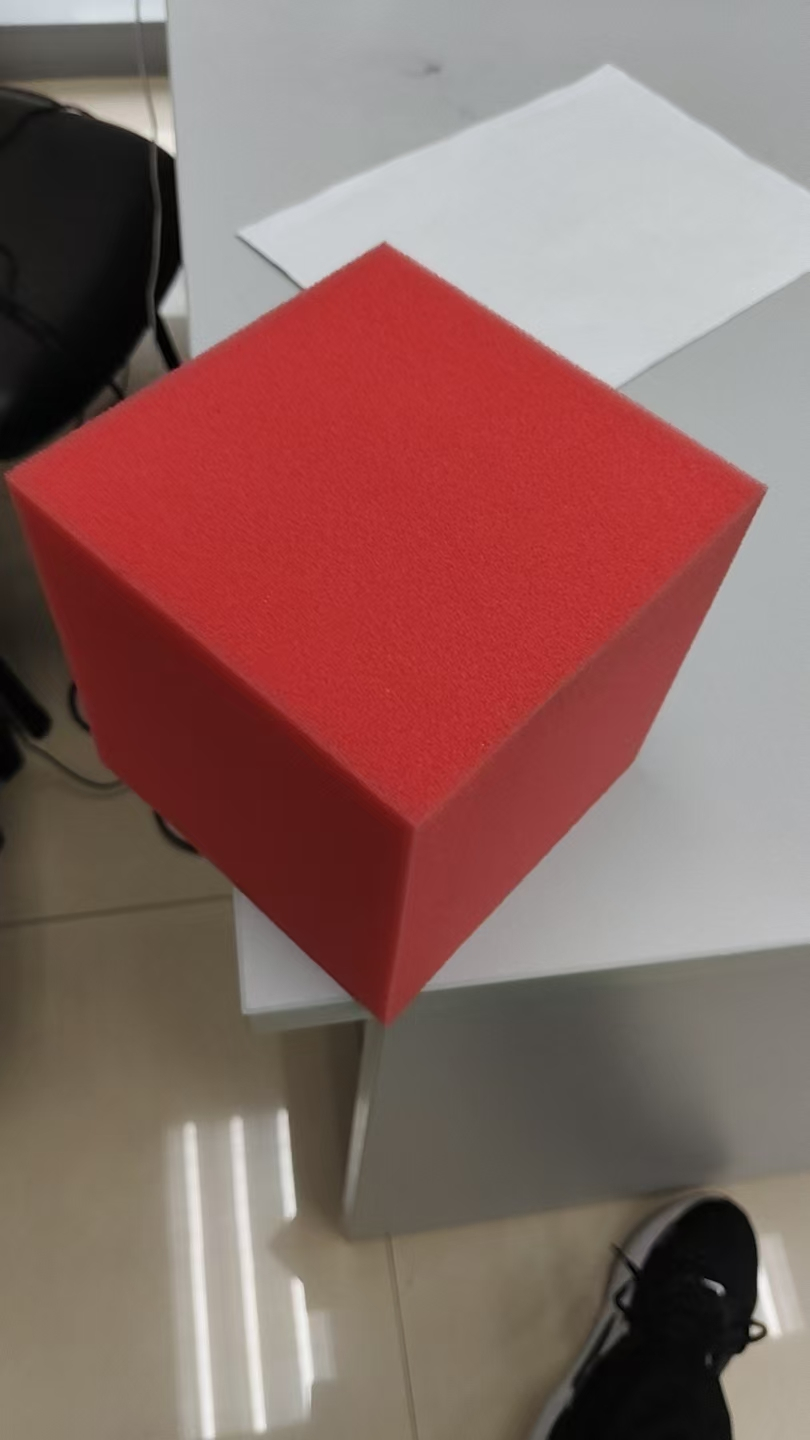red_large: (0, 241, 766, 1031)
